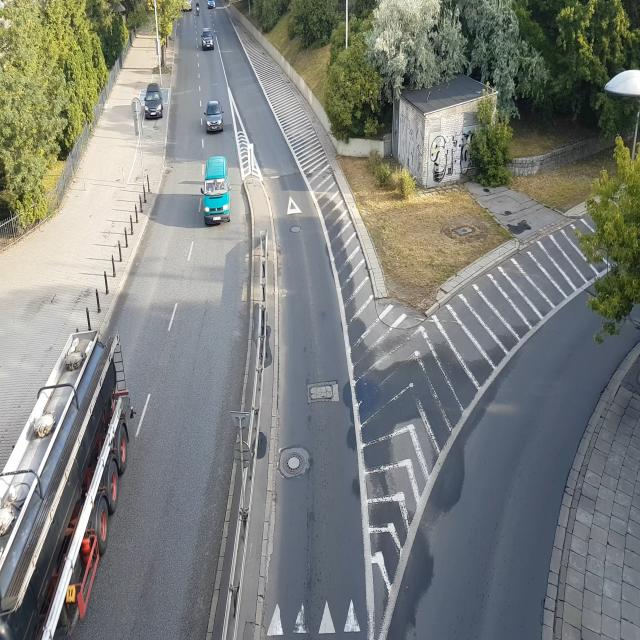car: (202, 157, 232, 226), (205, 101, 225, 134), (144, 86, 164, 119), (202, 30, 216, 51), (204, 0, 220, 9)
motorcycle: (195, 0, 203, 18)
truck: (0, 324, 144, 634)
